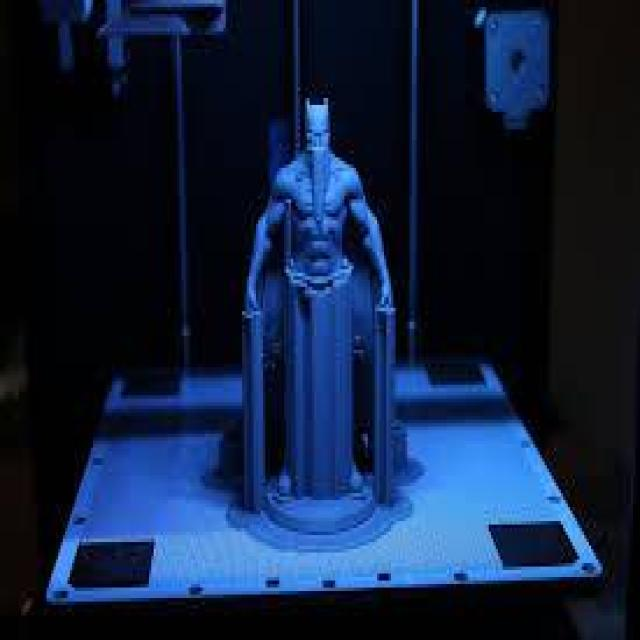Without deffect: (227, 80, 421, 552)
